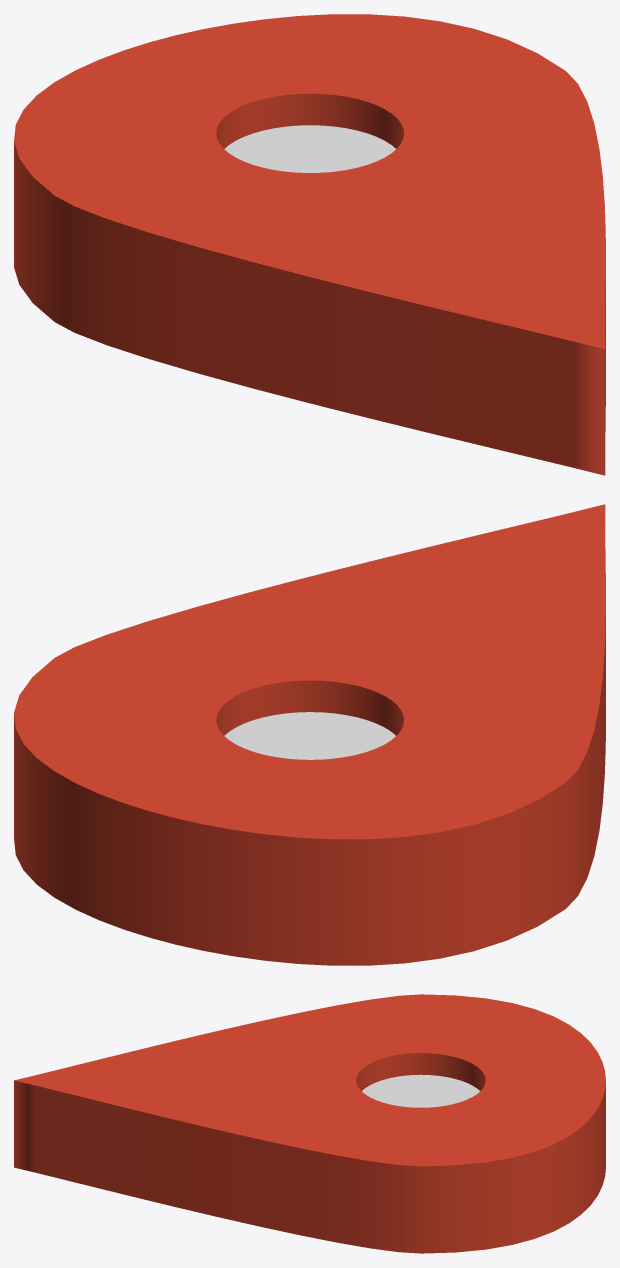
Rendered from pin.fbx.
3 renders of one model, top to bottom at view 1: azimuth 30°, elevation 25°; view 2: azimuth 150°, elevation 25°; view 3: azimuth 270°, elevation 25°, orthographic. The views are drawn at different scales.
Parts seen in each view (by area): view 1: pin, Cylinder; view 2: pin, Cylinder; view 3: pin, Cylinder.
Boxes of the visible parts, left/top/right/bottom form: pin: left=14, top=14, right=605, bottom=475; Cylinder: left=224, top=125, right=395, bottom=172; pin: left=14, top=504, right=605, bottom=965; Cylinder: left=224, top=712, right=395, bottom=759; pin: left=14, top=994, right=605, bottom=1253; Cylinder: left=362, top=1074, right=480, bottom=1107.
Bounding box in the file's own units: 0.8467 × 0.2 × 1.23.
